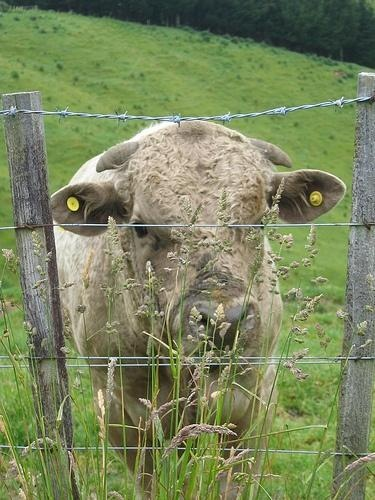cow: (51, 114, 347, 499)
